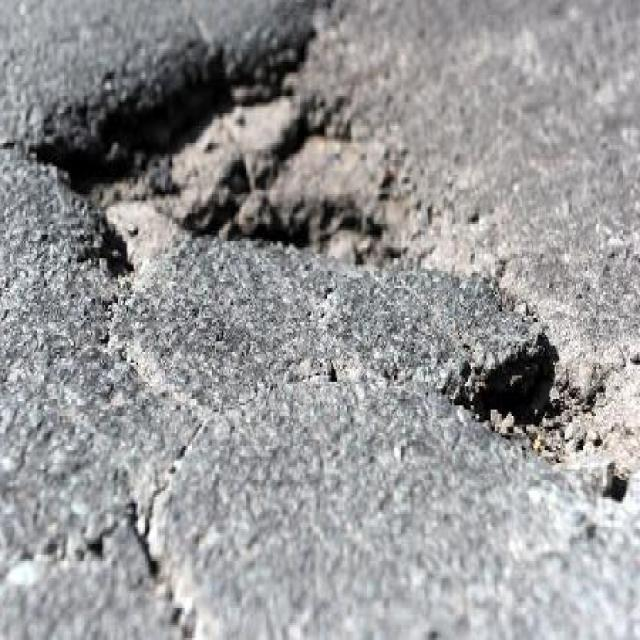pothole: (26, 2, 456, 292), (444, 317, 640, 499)
